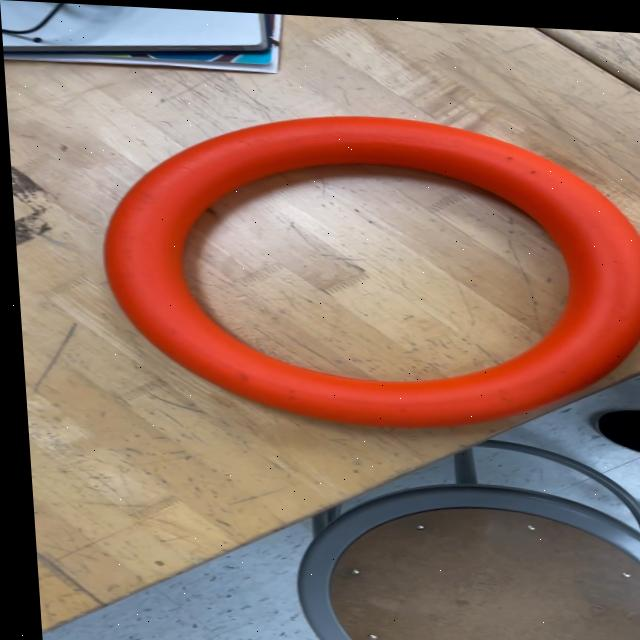note: (90, 102, 640, 436)
